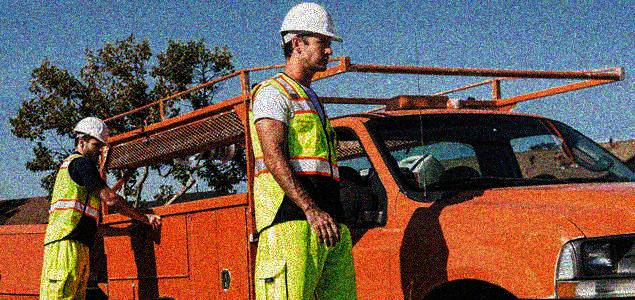helmet: (277, 1, 345, 74), (71, 113, 113, 163)
